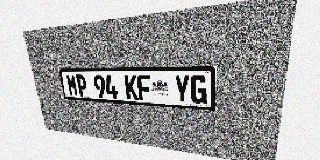4: (104, 75, 118, 99)
9: (93, 75, 107, 98)
F: (137, 75, 152, 101)
G: (190, 75, 207, 104)
K: (124, 75, 138, 100)
M: (66, 75, 79, 96)
P: (75, 75, 88, 97)
Y: (174, 75, 190, 103)
